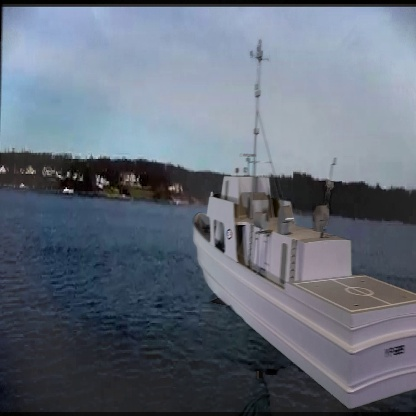YP689: (190, 40, 416, 411)
